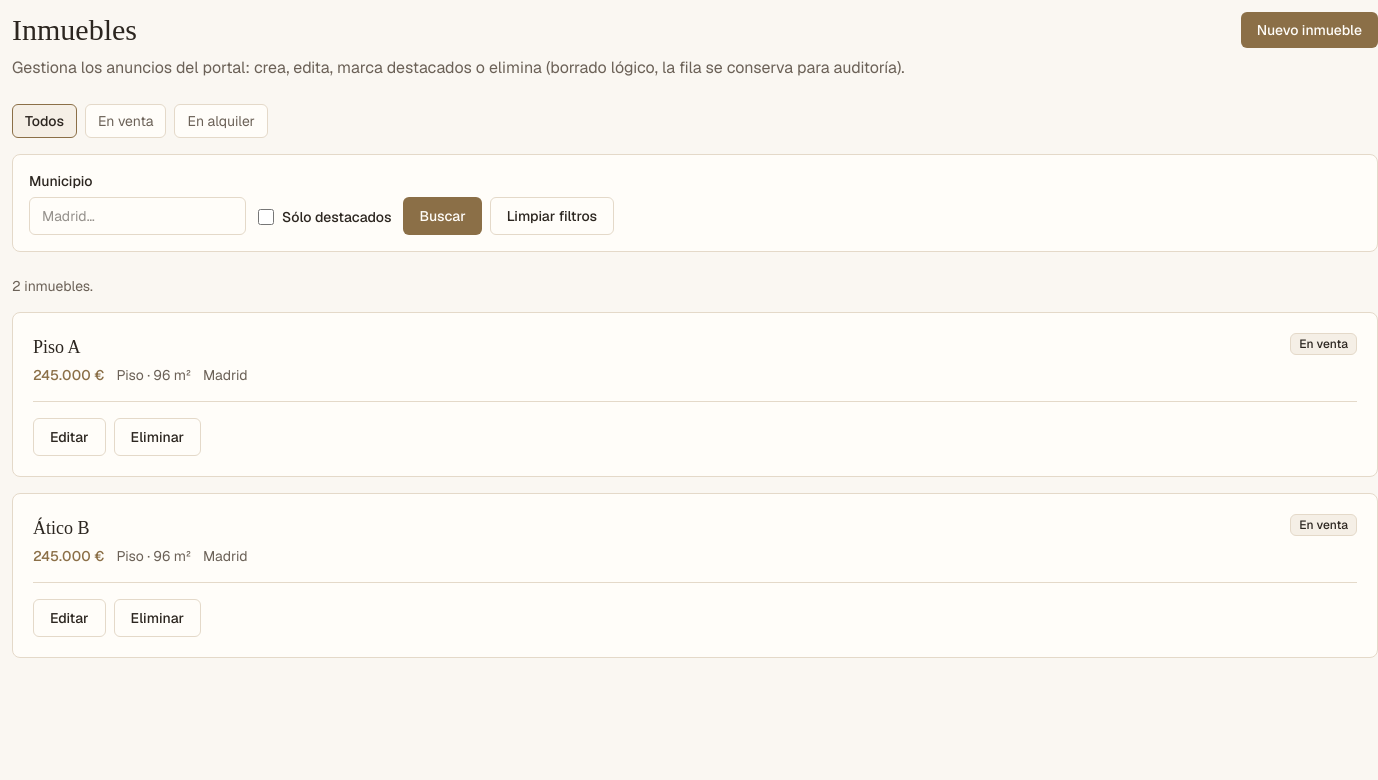
PanelInmuebles — borrado optimista › si_el_delete_falla_la_fila_vuelve_a_su_sitio_y_se_ve_el_error
Expected: the heading "Piso A" is shown, [33,337,80,357]
Click the button "Eliminar" below "Piso A": click(157, 437) [114,418,201,456]
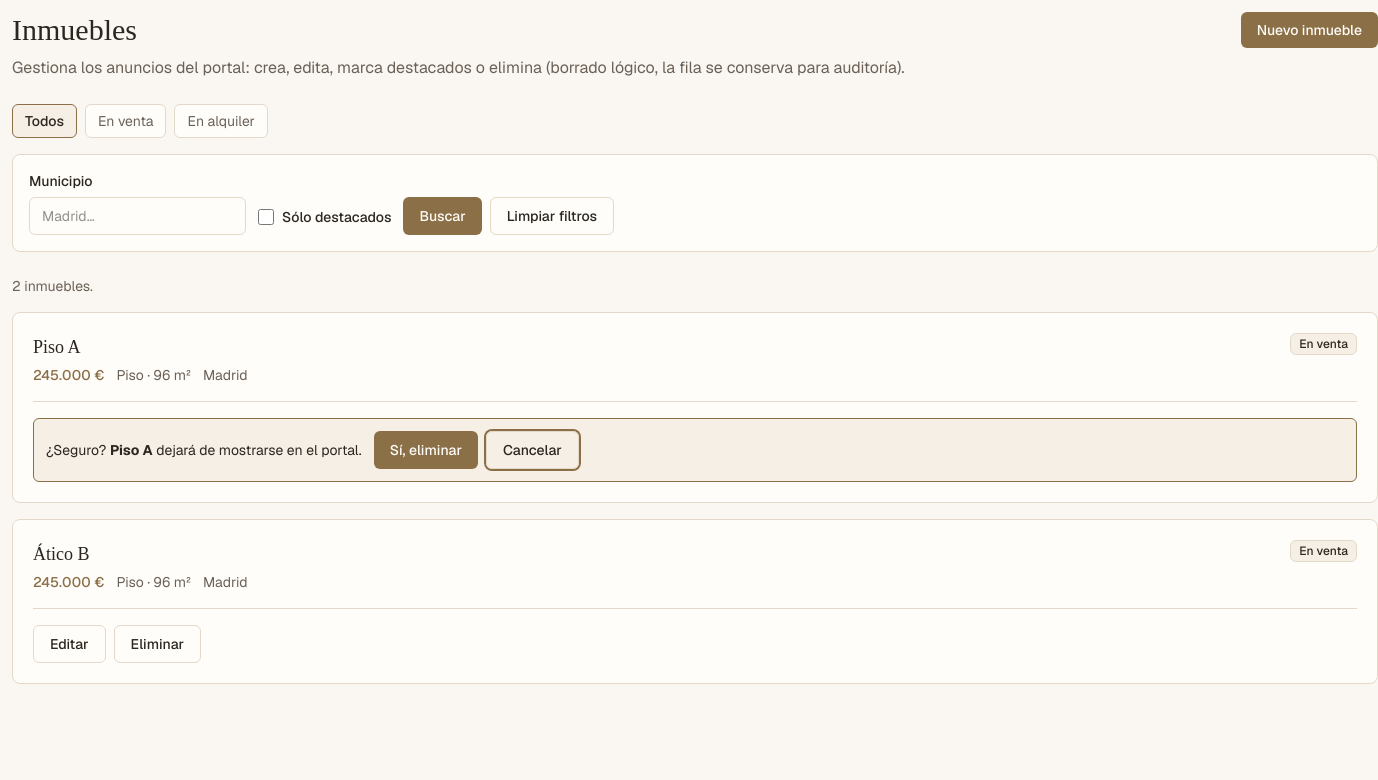
Click the button "Sí, eliminar": click(426, 450) [374,431,478,469]
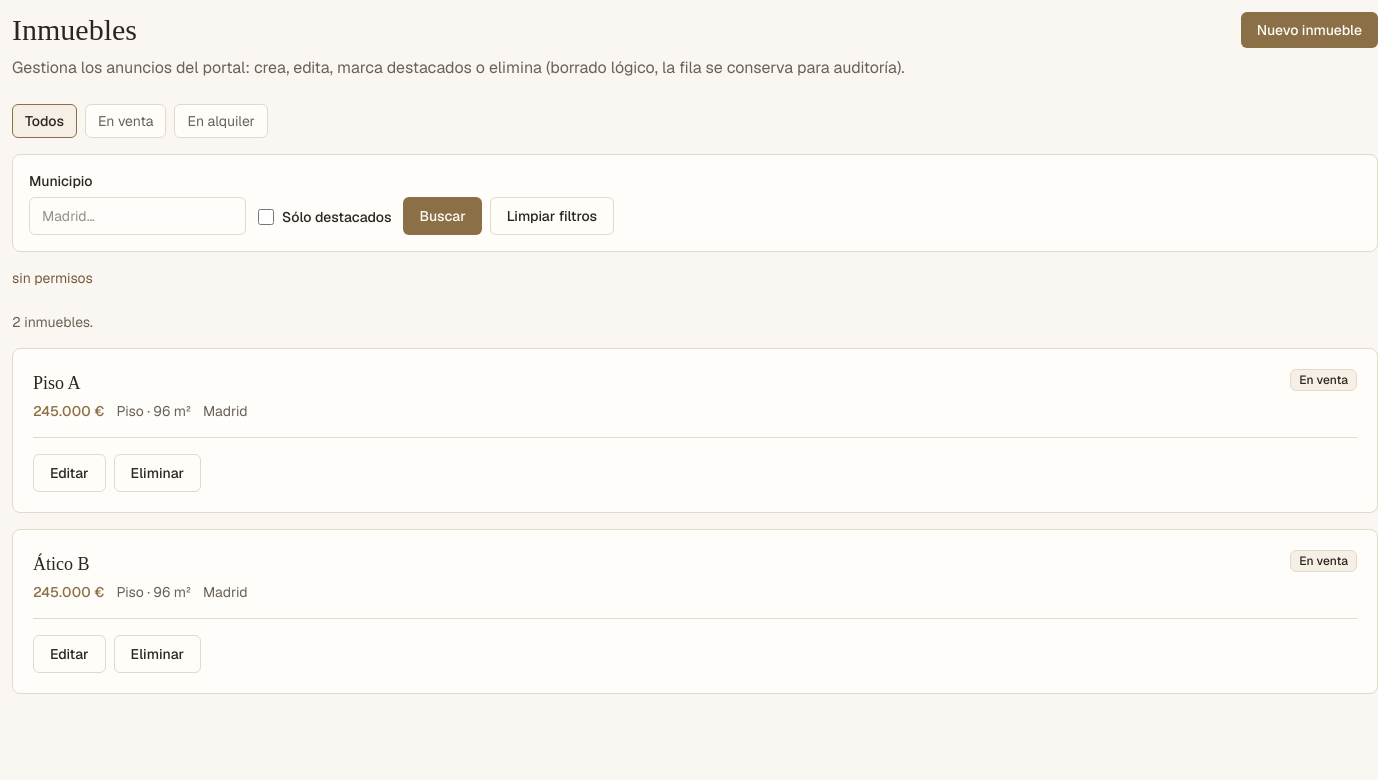
Expected: the heading "Piso A" is shown, [33,373,80,393]
Expected: the message reads "sin permisos", [12,269,93,287]
